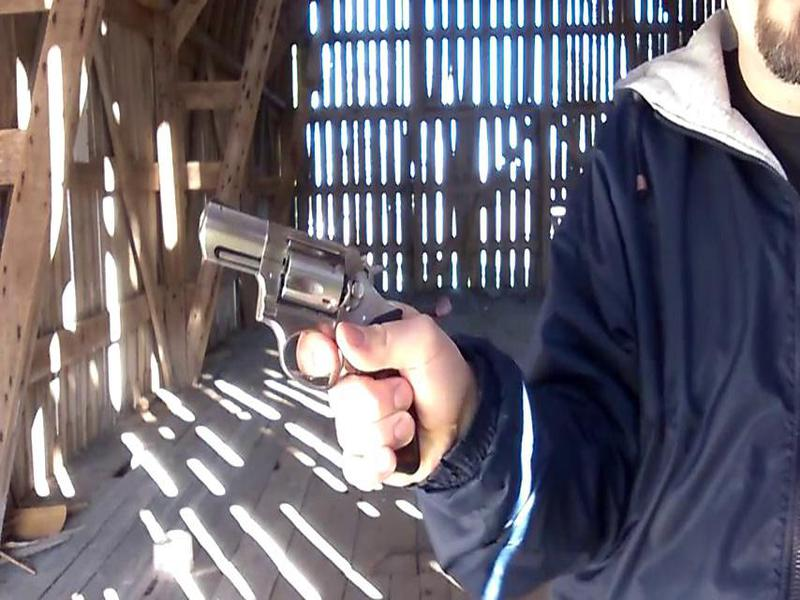Revolver: (186, 188, 418, 426)
